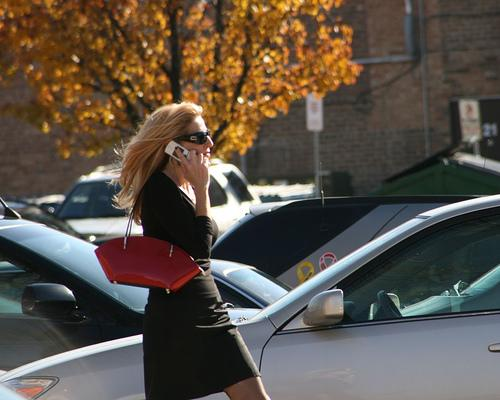person: (94, 102, 271, 399)
